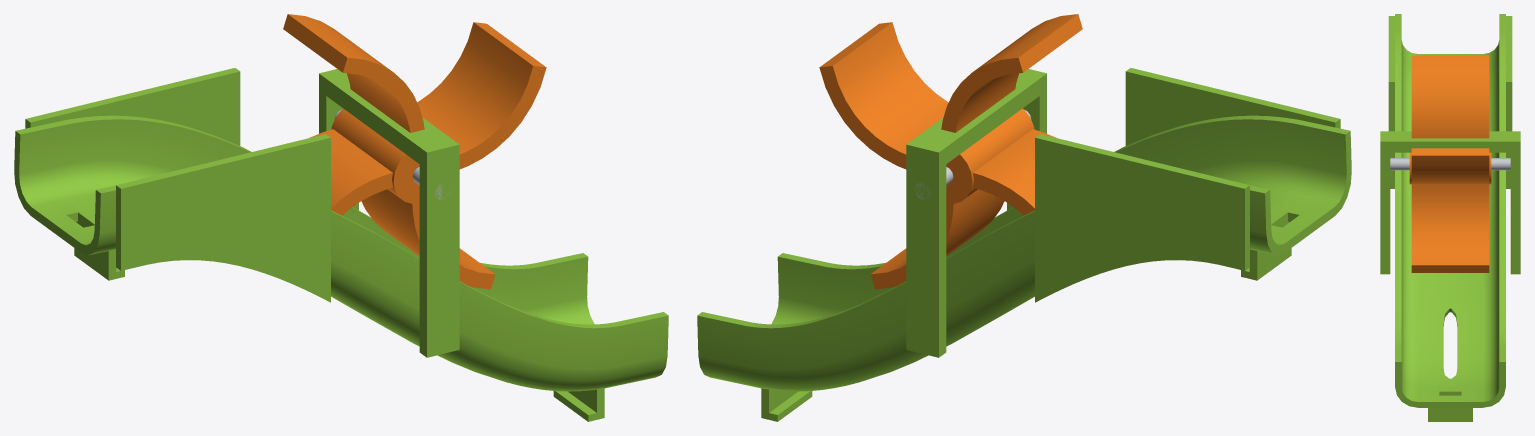
The picture shows the model from 3 angles, left to right: view 1: azimuth 30°, elevation 25°; view 2: azimuth 150°, elevation 25°; view 3: azimuth 270°, elevation 25°; orthographic projection. The views are drawn at different scales.
Visible parts, largest first — view 1: M-12, paddles; view 2: M-12, paddles; view 3: M-12, paddles.
Part boxes in pixels (x1,y1,x2,y2): M-12: (14,68,668,421); paddles: (283,14,546,289); M-12: (697,68,1351,421); paddles: (819,14,1082,289); M-12: (1380,14,1520,421); paddles: (1409,55,1491,272).
Bounding box in the file's own units: 0.1046 × 0.0763 × 0.0344.
